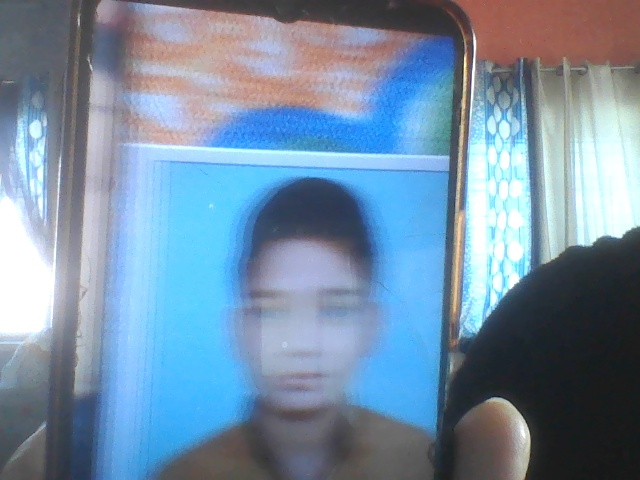fake: (213, 166, 413, 449)
